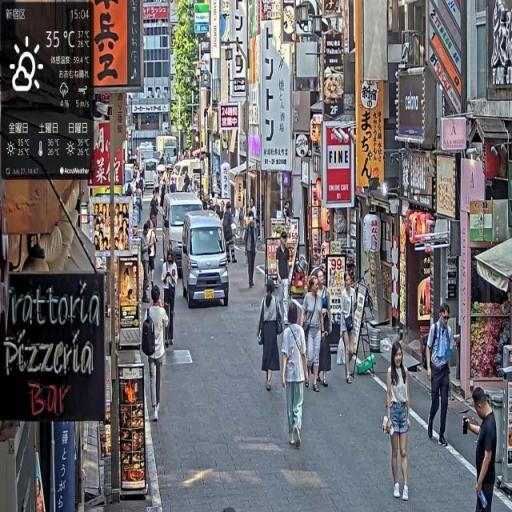person: (280, 304, 311, 451), (425, 303, 455, 449), (464, 388, 499, 512), (143, 287, 170, 422), (257, 278, 285, 394), (301, 274, 327, 392), (339, 268, 360, 389), (316, 269, 334, 391), (162, 248, 179, 347), (244, 206, 261, 288), (277, 232, 292, 317)
